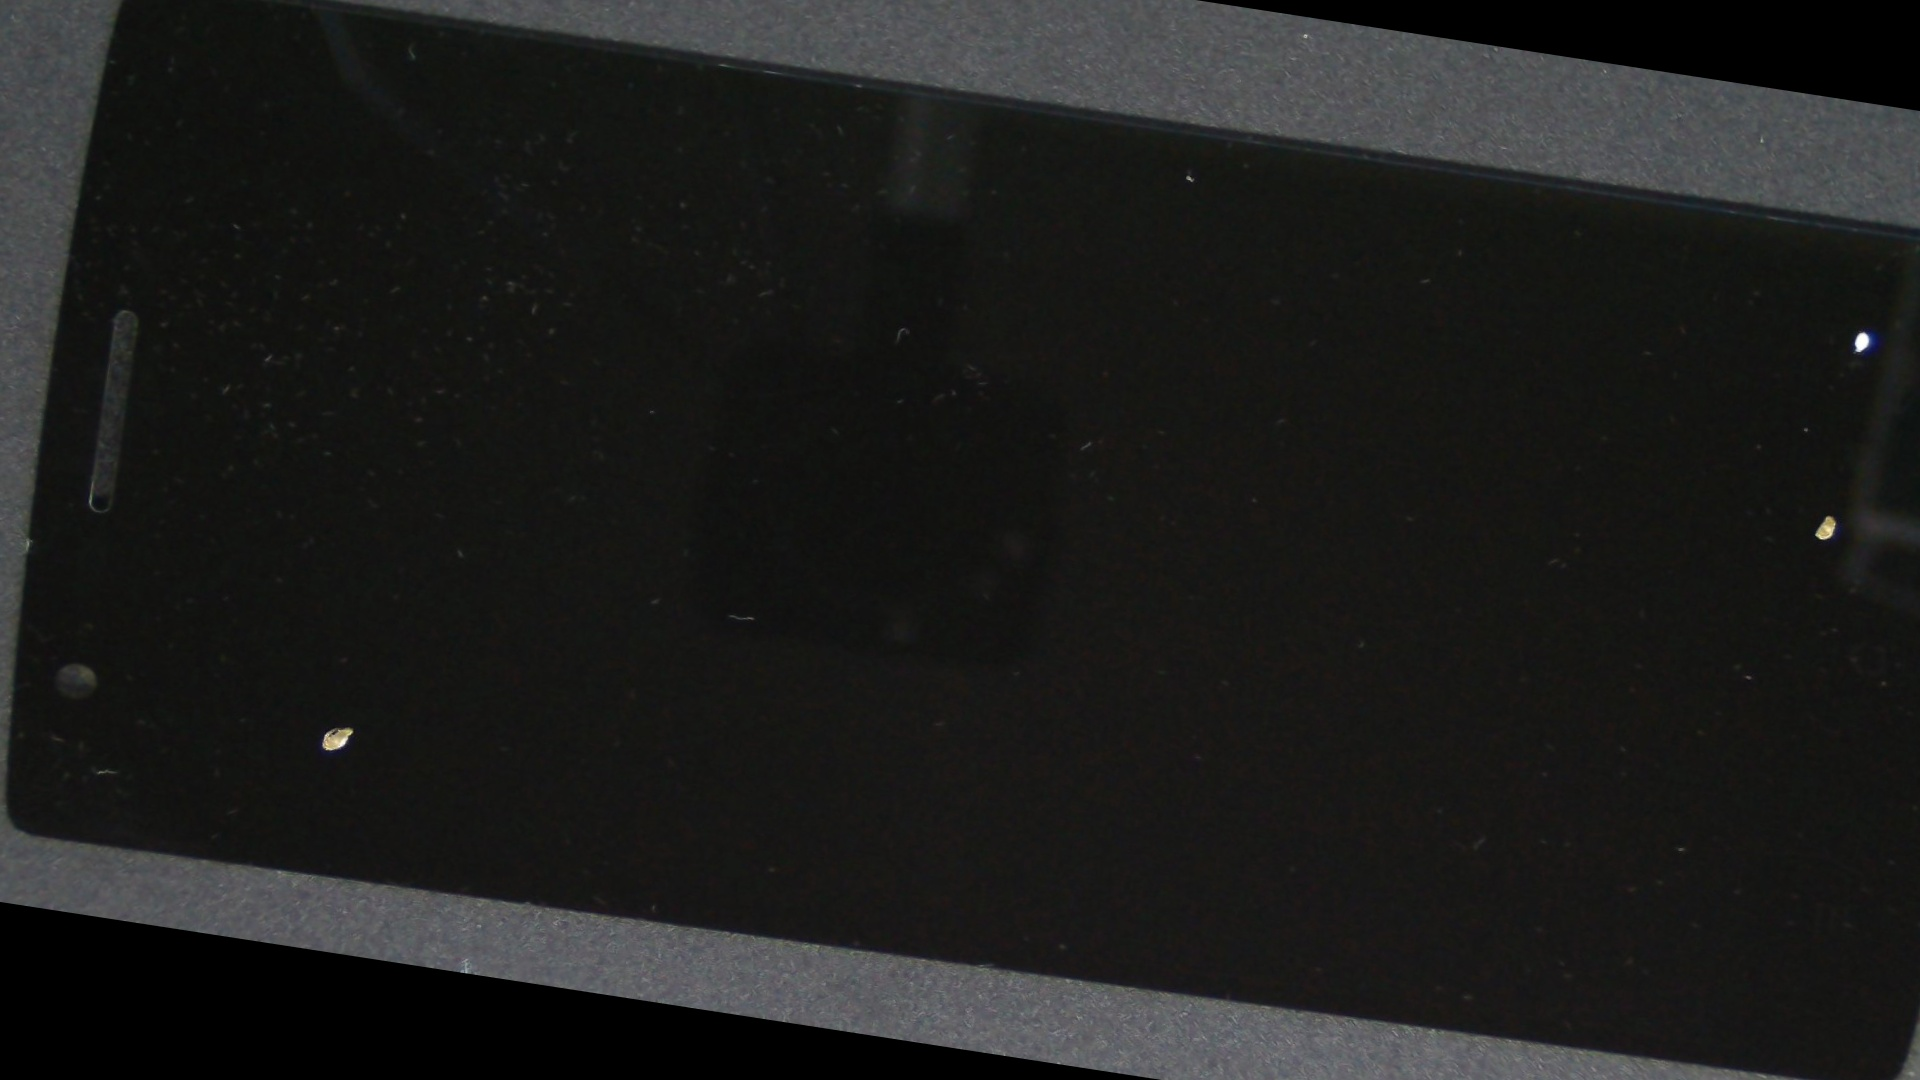oil: (856, 165, 1920, 758), (901, 74, 1920, 480), (80, 272, 647, 986)
